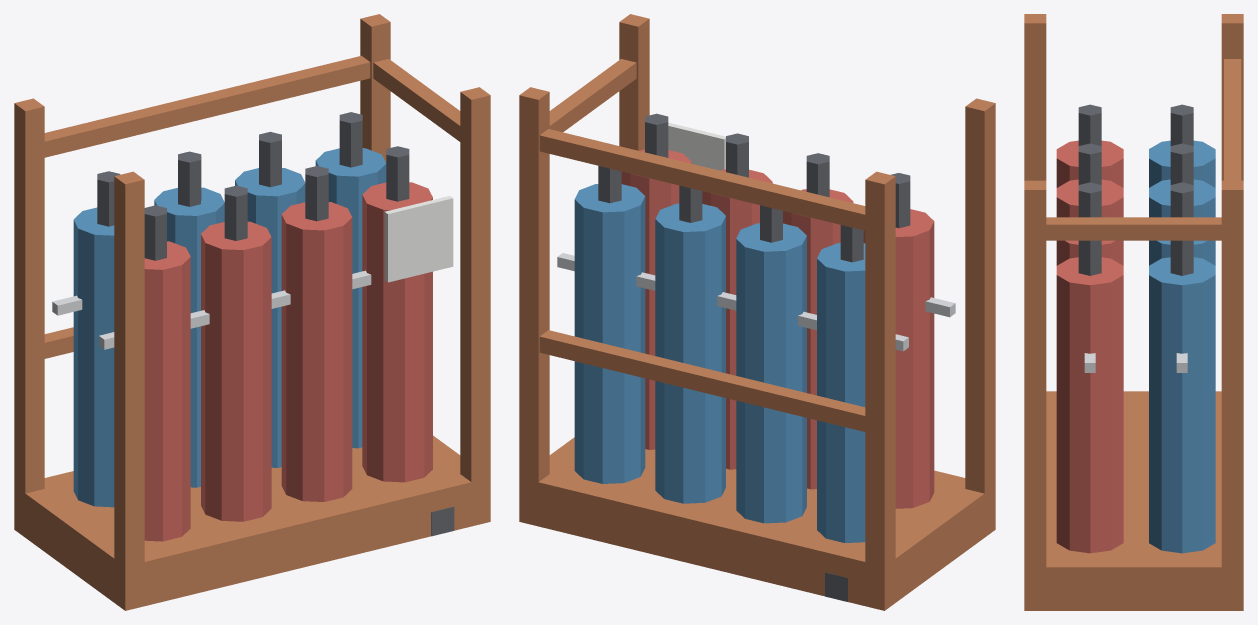
File: shipyard-and-dry-dock-shipyard-and-dry-dock-gas-bottle-5784b5be__37954.glb
3 renders of one model, left to right at view 1: azimuth 30°, elevation 25°; view 2: azimuth 150°, elevation 25°; view 3: azimuth 270°, elevation 25°, orthographic.
Parts seen in each view (by area): view 1: shipyard-and-dry-dock-gas-bottle-rack; view 2: shipyard-and-dry-dock-gas-bottle-rack; view 3: shipyard-and-dry-dock-gas-bottle-rack.
Boxes of the visible parts, x1,y1,x2,y2 form: shipyard-and-dry-dock-gas-bottle-rack: (14, 14, 490, 610); shipyard-and-dry-dock-gas-bottle-rack: (519, 14, 995, 610); shipyard-and-dry-dock-gas-bottle-rack: (1024, 14, 1243, 610).
Bounding box in the file's own units: 1.9 × 2.12 × 1.
